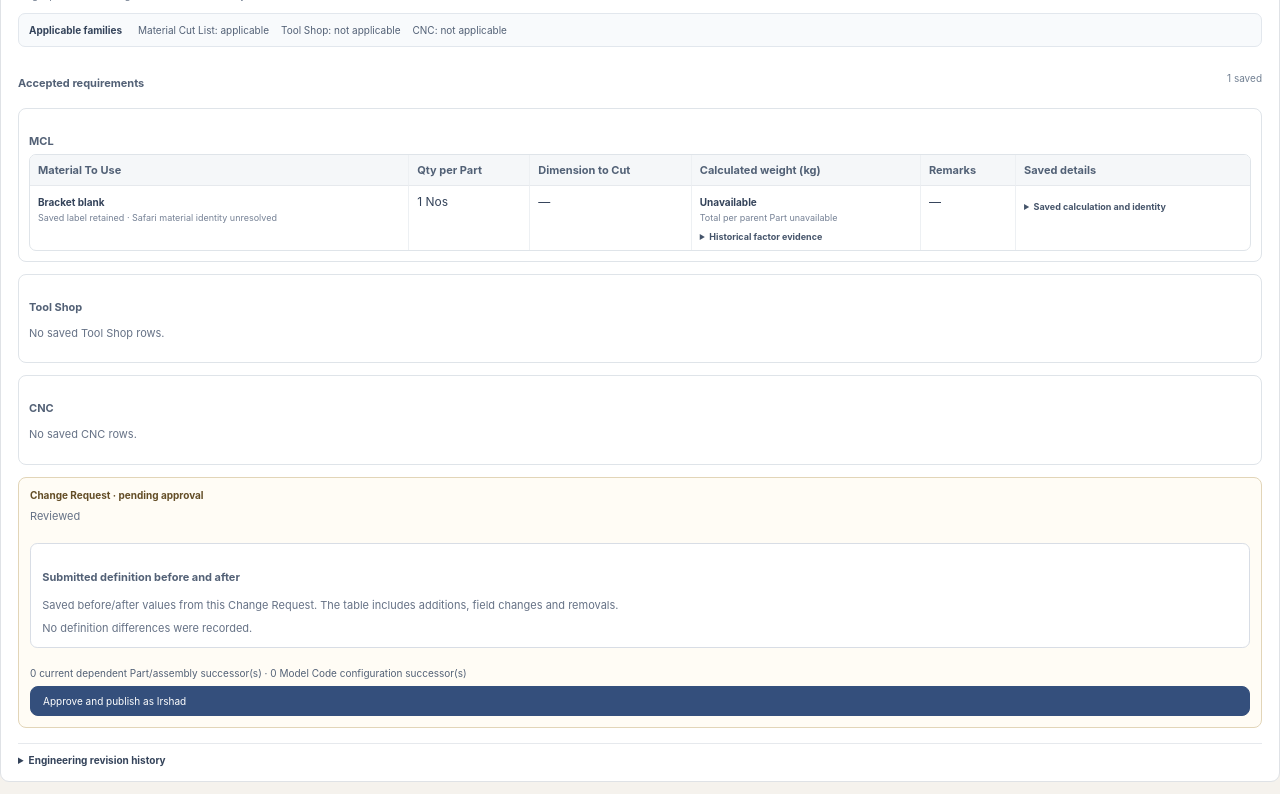
Test: retries an uncertain approved publication with the same durable request key
(page scrolled)
What coordinates should you click on to do the following:
click the button "Approve and publish as Irshad"
I would click on:
 (115, 701)
Its box is [30,686,1250,716].
(page scrolled)
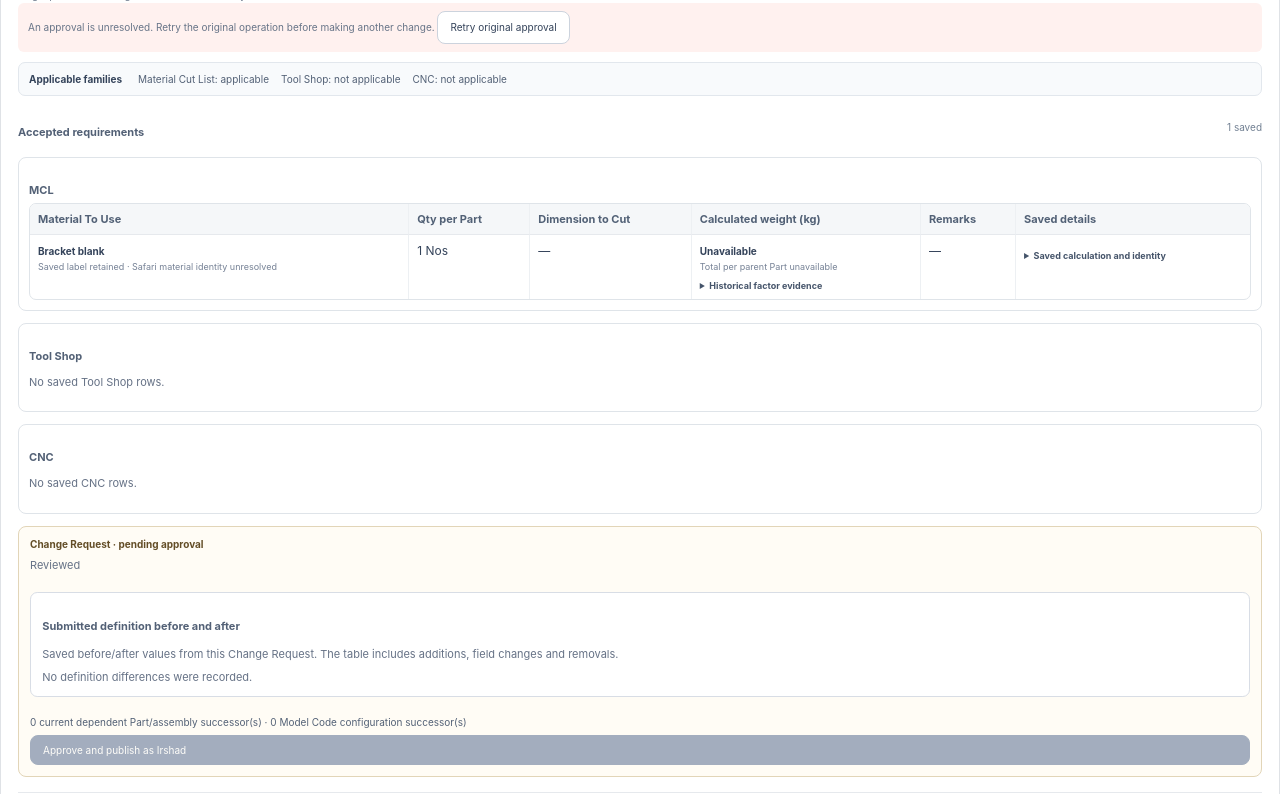
What coordinates should you click on to do the following:
click the button "Retry original approval"
I would click on:
 (504, 27)
Its box is [438,10,570,44].
(page scrolled)
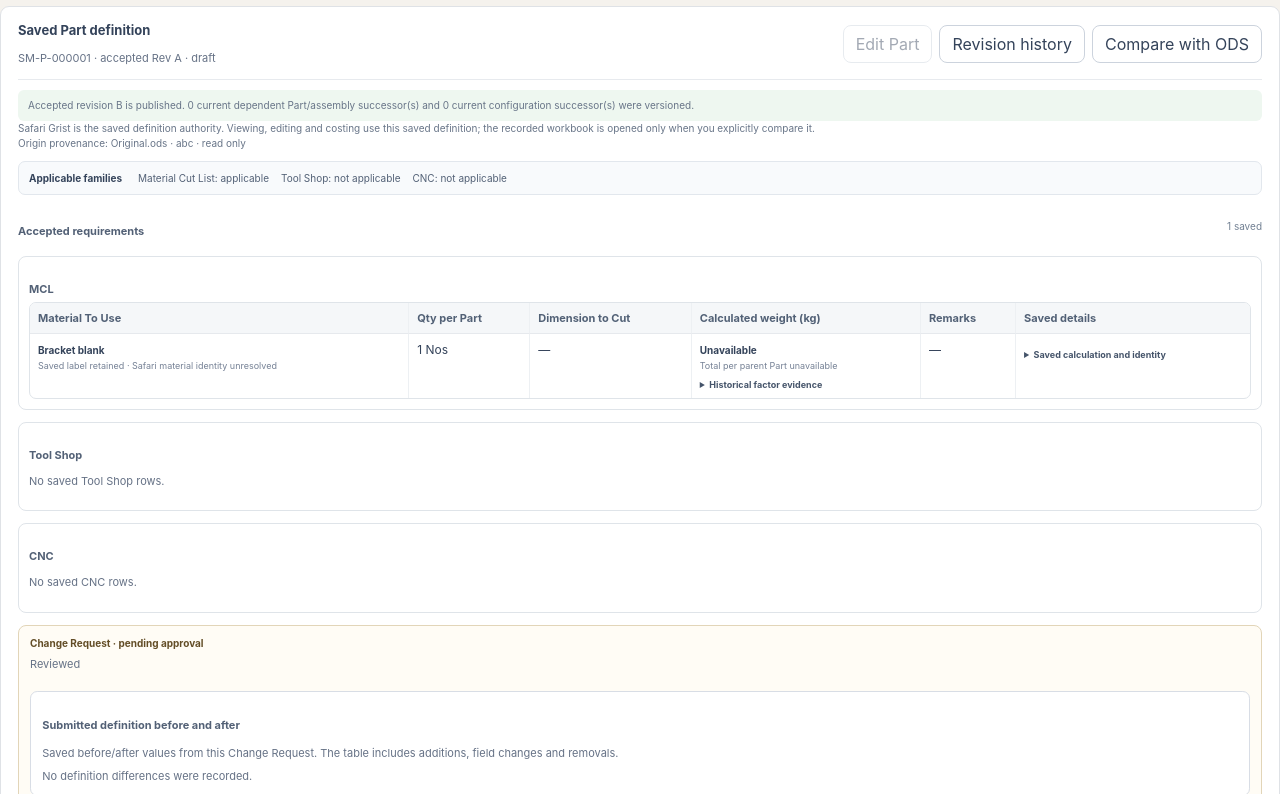
Now the text "Accepted revision B is published" is shown, box [28,98,694,110]
